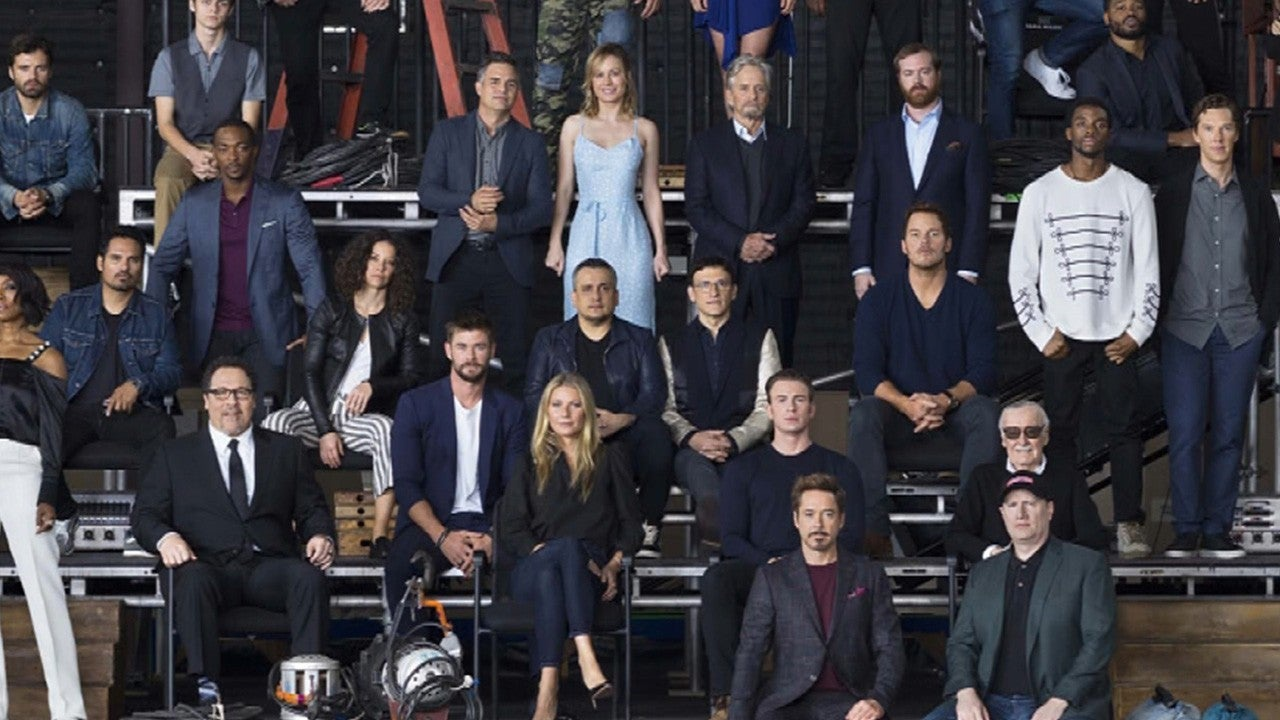bad: (999, 418, 1051, 470), (792, 499, 844, 550), (204, 378, 256, 429), (103, 242, 146, 286), (770, 386, 813, 430), (544, 391, 588, 434), (1000, 492, 1044, 535), (693, 266, 736, 310), (448, 334, 491, 377), (904, 223, 947, 266), (895, 60, 938, 103), (573, 276, 616, 319), (482, 65, 525, 108), (1197, 113, 1240, 156), (1068, 108, 1111, 151), (213, 132, 256, 175), (732, 70, 775, 113), (589, 62, 625, 98), (13, 58, 49, 94)
